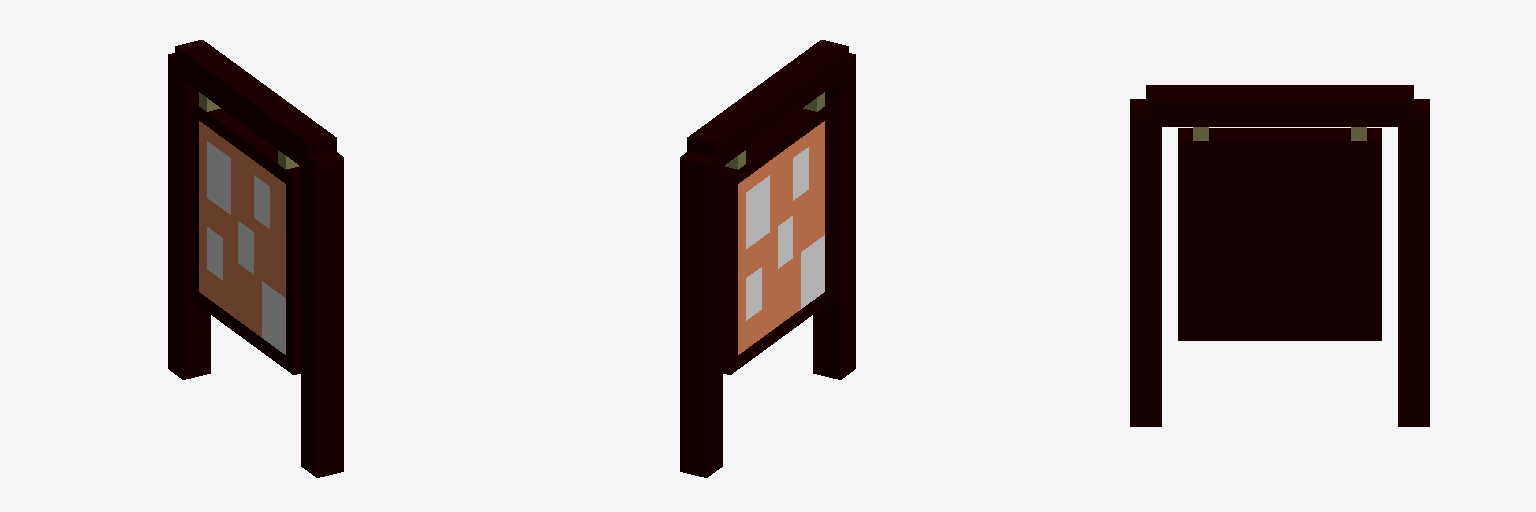
3 views of the same model, side by side, from view 1: azimuth 30°, elevation 25°; view 2: azimuth 150°, elevation 25°; view 3: azimuth 270°, elevation 25° (orthographic).
Bounding box in the file's own units: 2 × 23 × 19.
Materials: 1 (1 with a texture image).